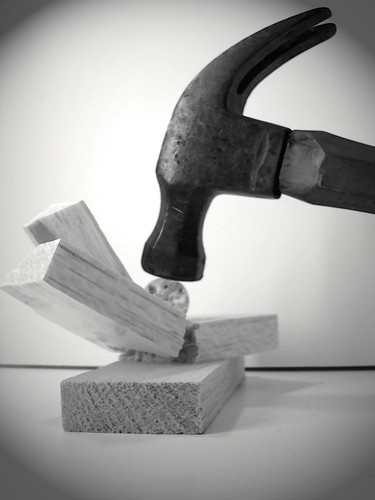hammer: (141, 7, 375, 285)
